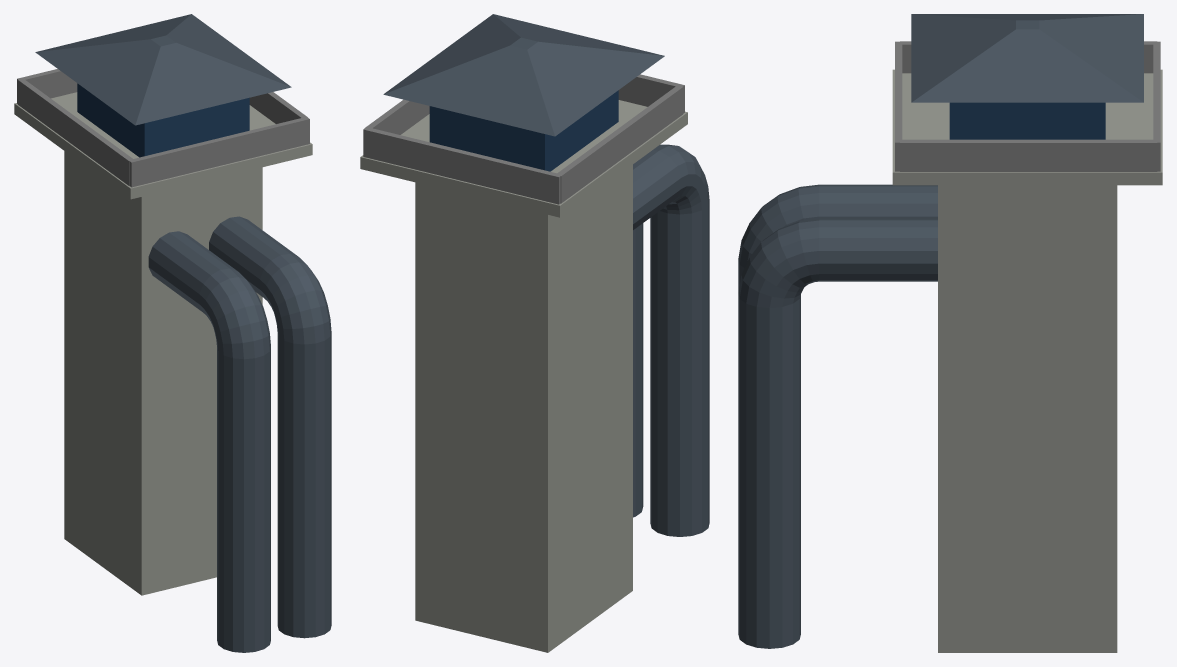
File: top-prebuilt.fbx
3 renders of one model, left to right at view 1: azimuth 30°, elevation 25°; view 2: azimuth 150°, elevation 25°; view 3: azimuth 270°, elevation 25°, orthographic. The views are drawn at different scales.
Parts seen in each view (by area): view 1: a1048_Prebuilt; view 2: a1048_Prebuilt; view 3: a1048_Prebuilt.
Part boxes in pixels (<box>): a1048_Prebuilt: <box>14,14,331,652</box>; a1048_Prebuilt: <box>360,14,709,652</box>; a1048_Prebuilt: <box>738,14,1162,652</box>.
Size of the model in its own units: 7.73 by 20.77 by 13.46.
